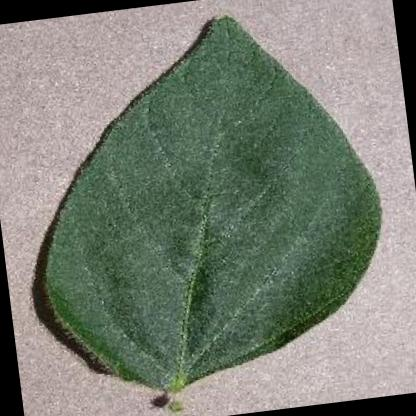soy: (3, 0, 407, 416)
